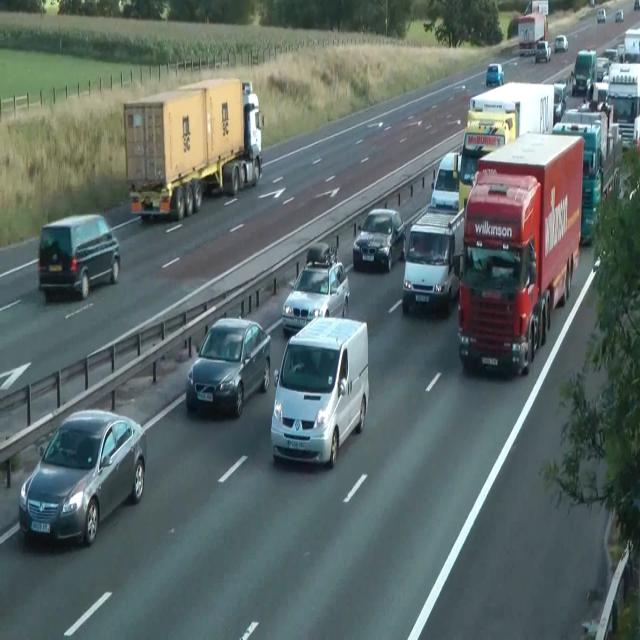bus: (19, 408, 147, 547), (185, 316, 271, 418), (458, 127, 506, 211), (352, 207, 406, 272), (430, 151, 460, 211), (553, 82, 567, 121), (486, 63, 504, 87), (535, 41, 551, 62), (596, 57, 610, 81), (37, 0, 60, 13), (554, 34, 568, 52), (604, 48, 618, 63), (597, 8, 605, 22), (615, 9, 623, 22), (634, 0, 640, 10), (589, 0, 595, 6)
car: (401, 206, 465, 316)
jeep: (270, 316, 369, 468), (38, 212, 120, 300), (281, 240, 349, 334)
minibus: (456, 130, 584, 376), (123, 76, 263, 222), (457, 81, 555, 210), (552, 103, 622, 245), (467, 81, 555, 142), (606, 61, 640, 150), (517, 12, 547, 56), (571, 48, 597, 97), (617, 27, 639, 63)
